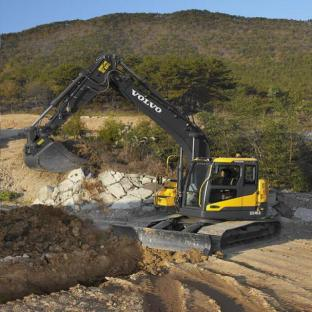ExcavationMachinery: (35, 61, 304, 259)
